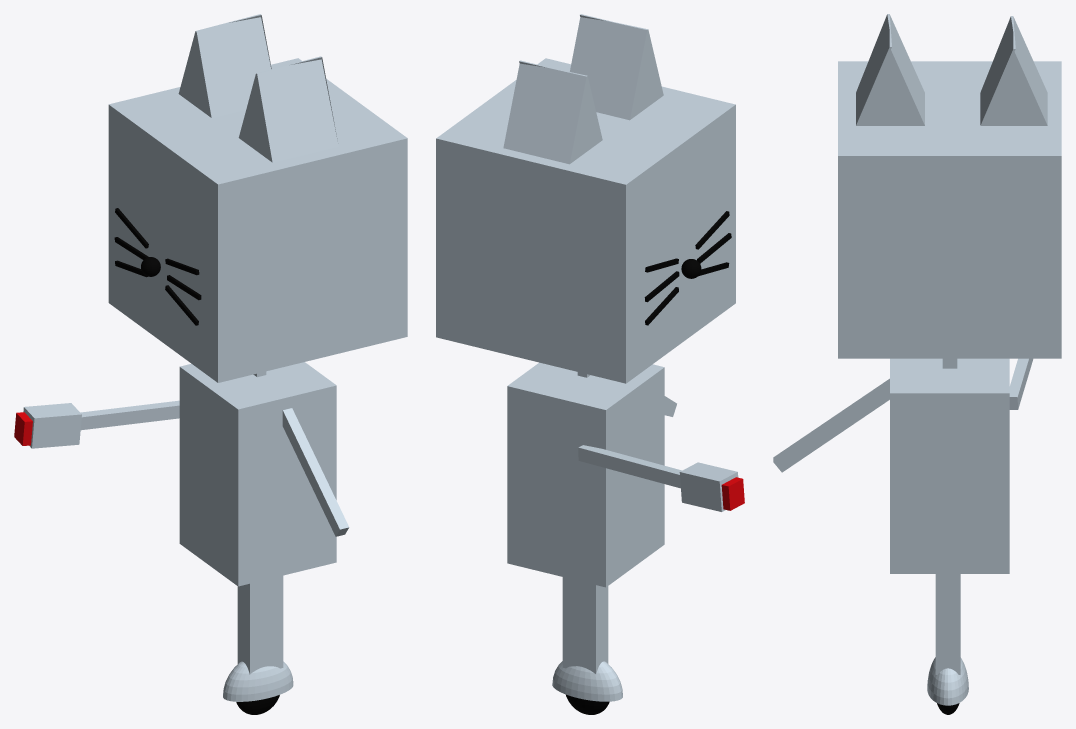
Rendered from Player model.fbx.
The picture shows the model from 3 angles, left to right: view 1: azimuth 30°, elevation 25°; view 2: azimuth 150°, elevation 25°; view 3: azimuth 270°, elevation 25°; orthographic projection. The views are drawn at different scales.
Parts seen in each view (by area): view 1: Cube.001, Cube, Cube.007, Cube.004, Cube.009, Cube.005, Cube.003, Sphere.002, Cube.006; view 2: Cube.001, Cube, Cube.004, Cube.007, Cube.009, Sphere.002, Cube.003, Cube.006, Cube.010, Sphere.001; view 3: Cube.001, Cube, Cube.007, Cube.004, Cube.009, Cube.005, Sphere.002, Cube.006.
Part boxes in pixels (x1,y1,x2,y2): Cube.001: (108, 58, 407, 382); Cube: (179, 362, 336, 586); Cube.007: (238, 56, 338, 162); Cube.004: (178, 14, 271, 117); Cube.009: (237, 575, 283, 674); Cube.005: (282, 408, 349, 536); Cube.003: (23, 403, 81, 448); Sphere.002: (223, 661, 293, 701); Cube.006: (80, 400, 179, 430); Cube.001: (436, 58, 735, 383); Cube: (507, 362, 664, 587); Cube.004: (503, 60, 602, 164); Cube.007: (570, 14, 663, 120); Cube.009: (562, 577, 608, 673); Sphere.002: (552, 661, 622, 701); Cube.003: (679, 462, 738, 511); Cube.006: (578, 445, 681, 488); Cube.010: (721, 477, 744, 510); Sphere.001: (566, 694, 609, 714); Cube.001: (838, 61, 1061, 358); Cube: (890, 358, 1009, 573); Cube.007: (856, 14, 924, 125); Cube.004: (980, 16, 1047, 125); Cube.009: (935, 574, 960, 674); Cube.005: (773, 378, 889, 472); Sphere.002: (927, 657, 968, 705); Cube.006: (1009, 358, 1033, 409).
Size of the model in its own units: 102 by 222 by 85.08.
